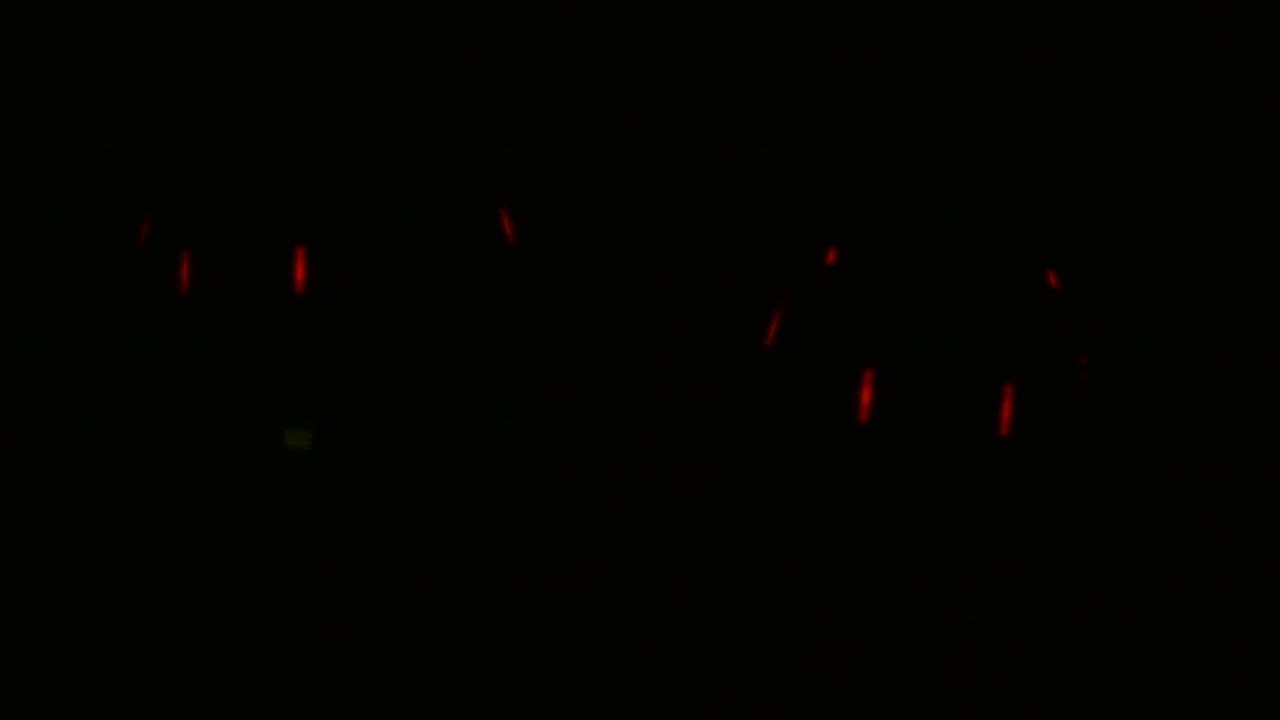pair1: (853, 360, 1019, 444), (172, 234, 311, 296)
